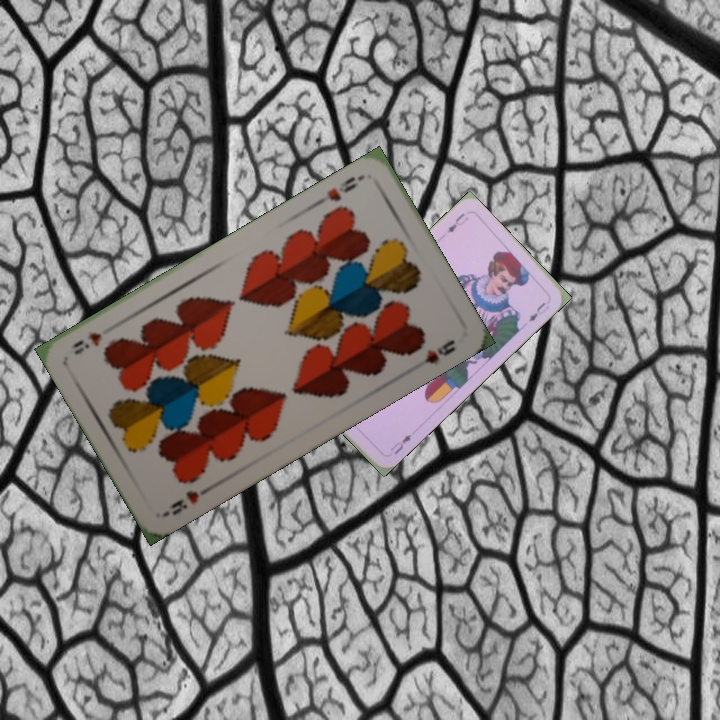EU: (386, 429, 414, 457), (443, 209, 471, 236)
H9: (166, 482, 214, 518), (313, 172, 359, 205)
